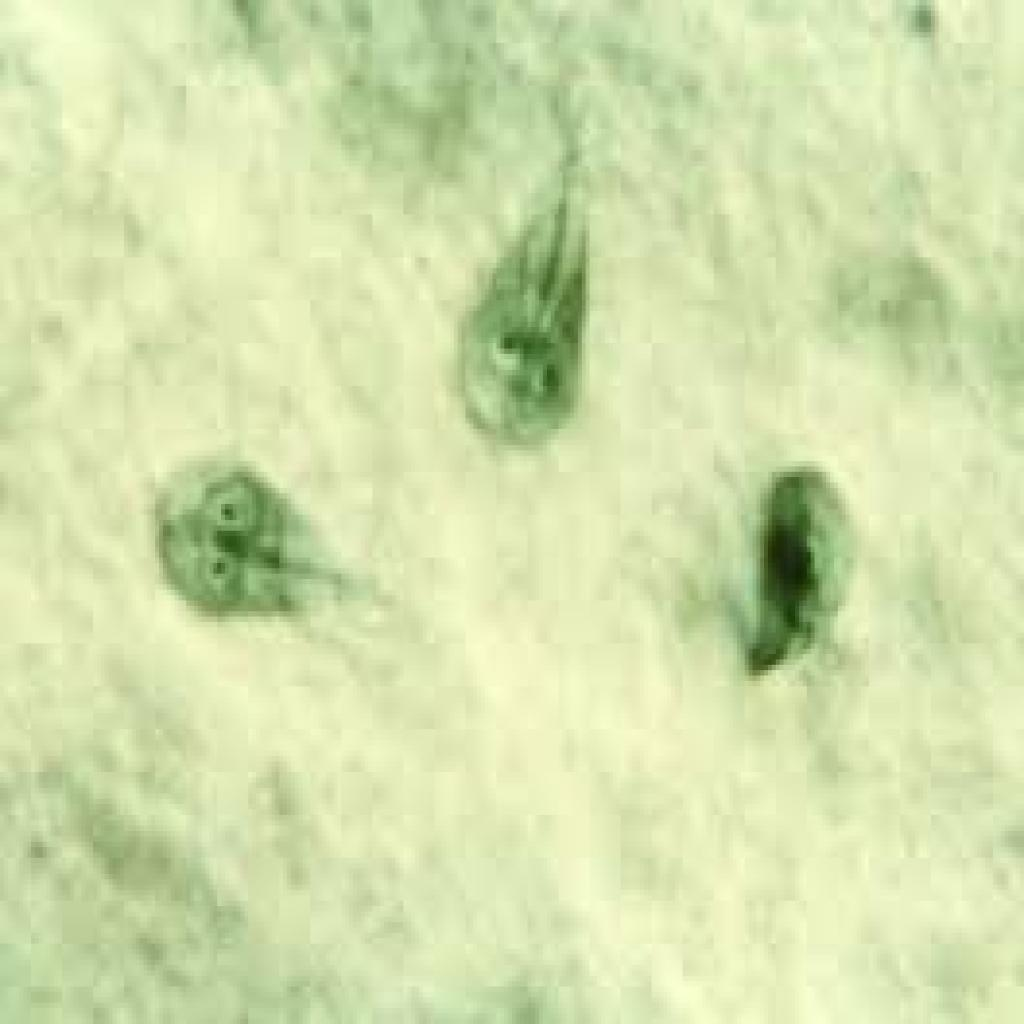Giardia: (136, 456, 357, 632), (446, 172, 586, 440)
